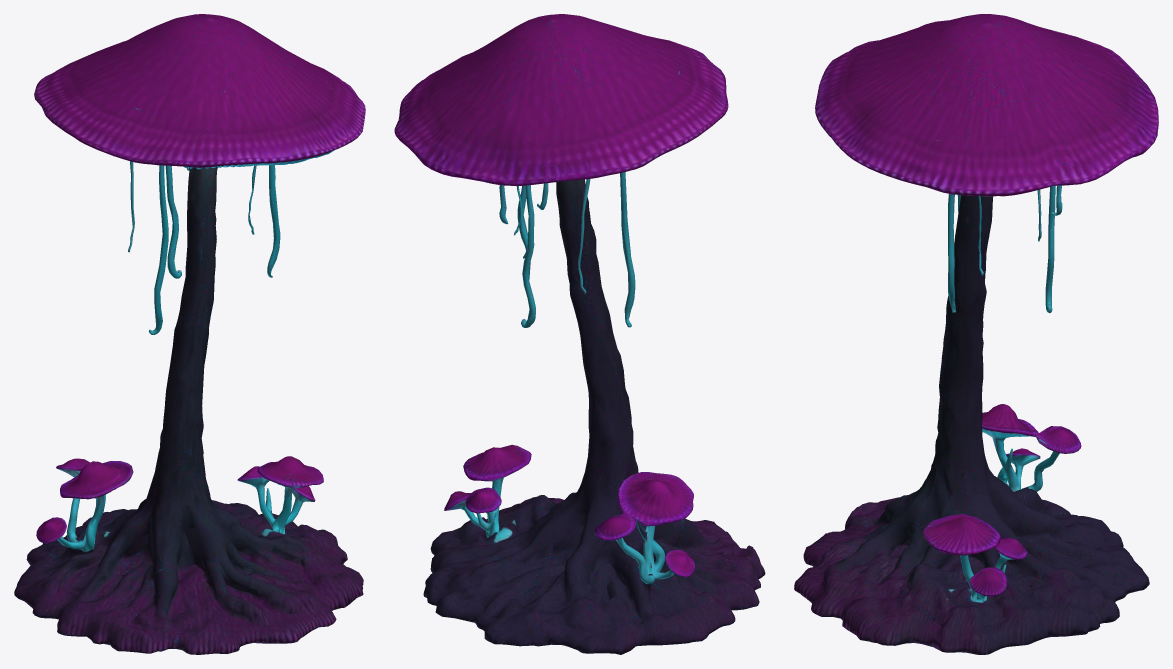
File: plant-cap.glb
3 renders of one model, left to right at view 1: azimuth 30°, elevation 25°; view 2: azimuth 150°, elevation 25°; view 3: azimuth 270°, elevation 25°, orthographic. The views are drawn at different scales.
Size of the model in its own units: 1.13 by 1.9 by 1.1.
1 material, 1 textured.
